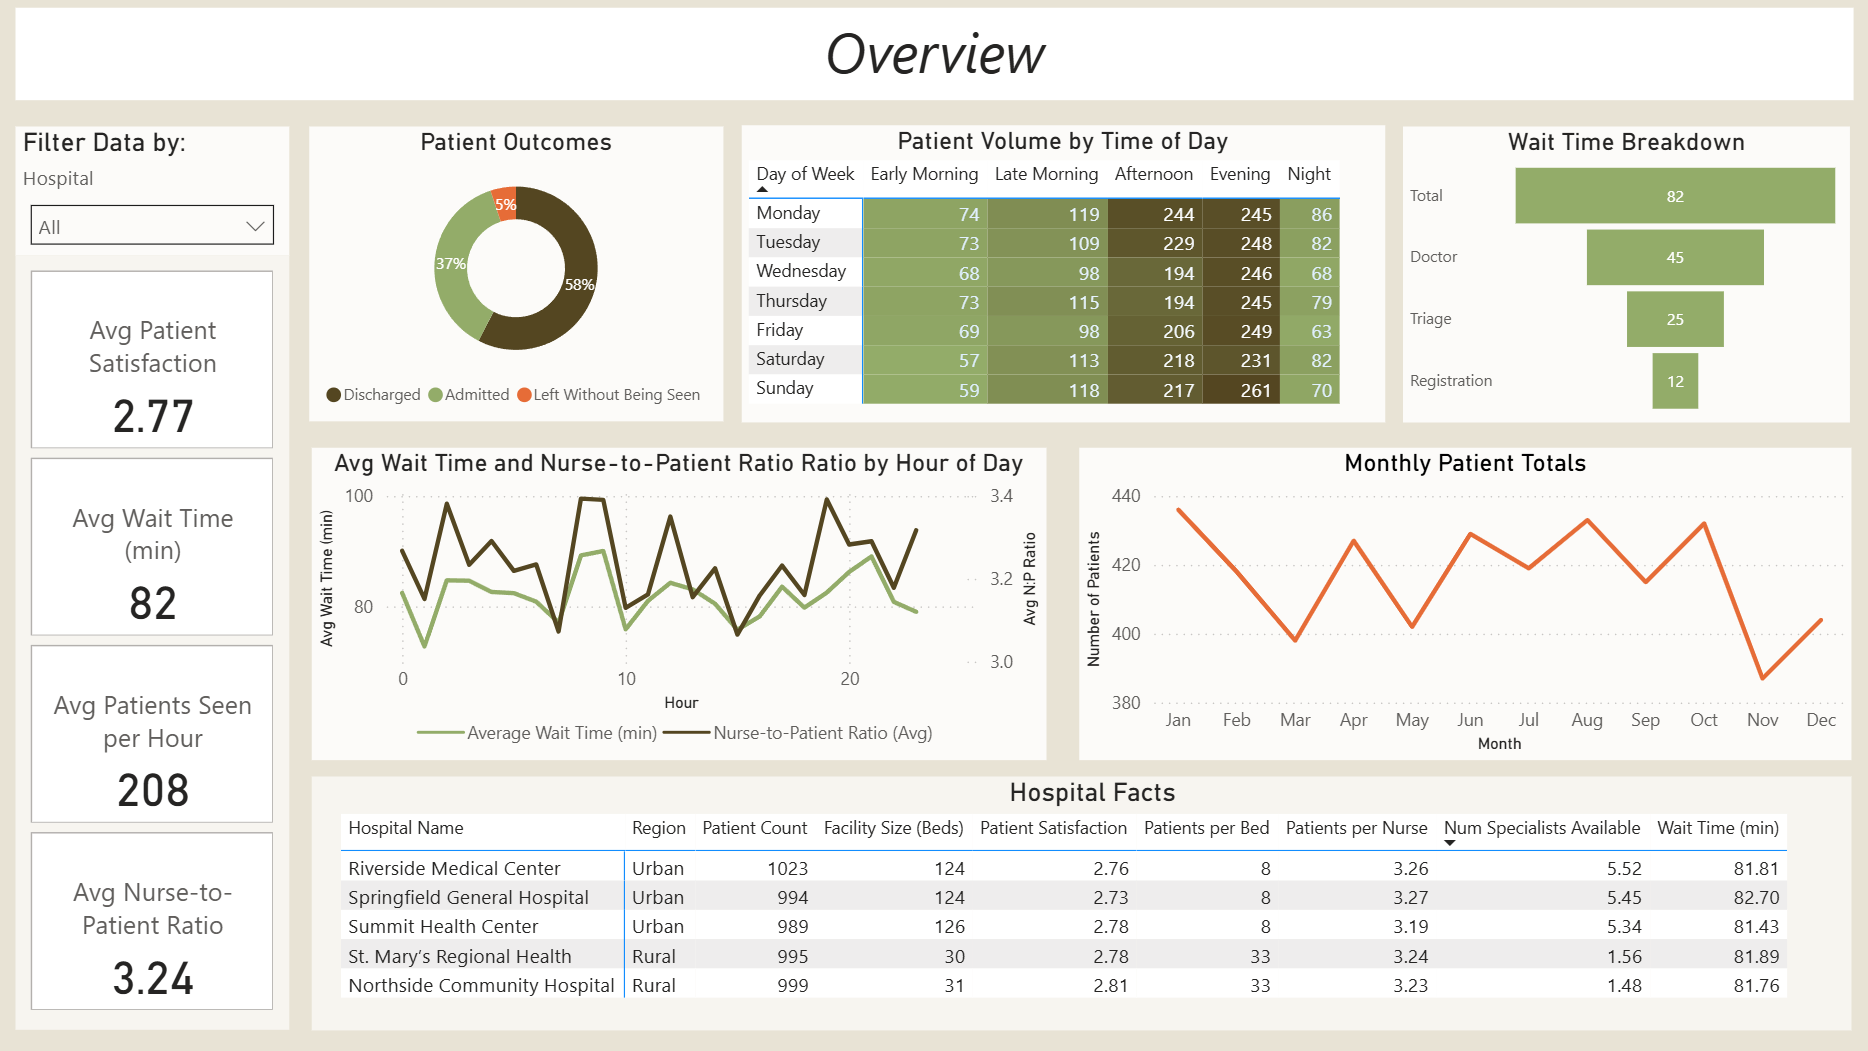

This screenshot's page, from the dashboard's own definition file:
{"tool":"powerbi","page":{"name":"Overview","canvas":[1280,720],"ordinal":0},"visuals":[{"type":"donutChart","title":"Patient Outcomes","fields":{"Y":["CountNonNull(ER Wait Time Dataset.Patient ID)"],"Category":["ER Wait Time Dataset.Patient Outcome"]},"box":[213.1,86.8,283.1,201.5],"z":0,"group":"g2"},{"type":"lineChart","title":"Monthly Patient Totals","fields":{"Y":["CountNonNull(ER Wait Time Dataset.Visit ID)"],"Category":["ER Wait Time Dataset.Month Name Short"]},"box":[739.4,306.6,528.3,213.2],"z":1000,"group":"g2"},{"type":"funnel","title":"Wait Time Breakdown","fields":{"Y":["Avg(ER Wait Time Dataset.Total Wait Time (min))","Avg(ER Wait Time Dataset.Time to Medical Professional (min))","Avg(ER Wait Time Dataset.Time to Triage (min))","Avg(ER Wait Time Dataset.Time to Registration (min))"]},"box":[960.5,86.8,305.8,202.2],"z":2000,"group":"g2"},{"type":"cardVisual","fields":{"Data":["Avg(ER Wait Time Dataset.Patient Satisfaction)","Avg(ER Wait Time Dataset.Total Wait Time (min))","ER Wait Time Dataset.Count of Patient ID average per Hour","Avg(ER Wait Time Dataset.Nurse-to-Patient Ratio)"]},"box":[11.8,175,186.8,529.4],"z":3000,"group":"g1"},{"type":"pivotTable","title":"Hospital Facts","fields":{"Rows":["ER Wait Time Dataset.Hospital Name"],"Values":["Min(ER Wait Time Dataset.Region)","Count(ER Wait Time Dataset.Patient ID)","Avg(ER Wait Time Dataset.Facility Size (Beds))","Avg(ER Wait Time Dataset.Patient Satisfaction)","ER Wait Time Dataset.Measure","Avg(ER Wait Time Dataset.Nurse-to-Patient Ratio)","Avg(ER Wait Time Dataset.Specialist Availability)","Avg(ER Wait Time Dataset.Total Wait Time (min))"]},"box":[214.7,531.6,1053,173.5],"z":3000,"group":"g2"},{"type":"pivotTable","title":"Patient Volume by Time of Day","fields":{"Columns":["ER Wait Time Dataset.Time of Day"],"Values":["Count(ER Wait Time Dataset.Patient ID)"],"Rows":["ER Wait Time Dataset.Day of Week"]},"box":[508.3,86.3,439.6,203.4],"z":4000,"group":"g2"},{"type":"lineChart","title":"Avg Wait Time and Nurse-to-Patient Ratio Ratio by Hour of Day","fields":{"Y":["Avg(ER Wait Time Dataset.Total Wait Time (min))"],"Category":["ER Wait Time Dataset.Hour"],"Y2":["Avg(ER Wait Time Dataset.Nurse-to-Patient Ratio)"]},"box":[214.7,306.6,502.1,213.2],"z":5000,"group":"g2"},{"type":"textbox","box":[11.8,5.9,1256.6,63.2],"z":6000,"group":"g2"},{"type":"group","id":"g1","title":"Group 1","box":[11.8,86.8,186.8,617.6],"z":7000,"group":"g2"},{"type":"slicer","title":"Filter Data by:","fields":{"Values":["ER Wait Time Dataset.Hospital Name"]},"box":[11.8,86.8,186.8,88.2],"z":7000,"group":"g1"},{"type":"group","id":"g2","title":"Group 2","box":[11.8,5.9,1256.6,699.3],"z":8002}]}

Visuals, with their boxes in screenshot pixels (x1, y1, x2, y2), scaled from the page's 1280x720 canvas onto the 1868x1051 screenshot:
"Patient Outcomes" donutChart: left=311, top=127, right=724, bottom=421
"Monthly Patient Totals" lineChart: left=1079, top=448, right=1850, bottom=759
"Wait Time Breakdown" funnel: left=1402, top=127, right=1848, bottom=422
cardVisual - Avg(ER Wait Time Dataset.Patient Satisfaction) x Avg(ER Wait Time Dataset.Total Wait Time (min)): left=17, top=255, right=290, bottom=1028
"Hospital Facts" pivotTable: left=313, top=776, right=1850, bottom=1029
"Patient Volume by Time of Day" pivotTable: left=742, top=126, right=1383, bottom=423
"Avg Wait Time and Nurse-to-Patient Ratio Ratio by Hour of Day" lineChart: left=313, top=448, right=1046, bottom=759
textbox: left=17, top=9, right=1851, bottom=101
"Group 1" group: left=17, top=127, right=290, bottom=1028
"Filter Data by:" slicer: left=17, top=127, right=290, bottom=255
"Group 2" group: left=17, top=9, right=1851, bottom=1029
